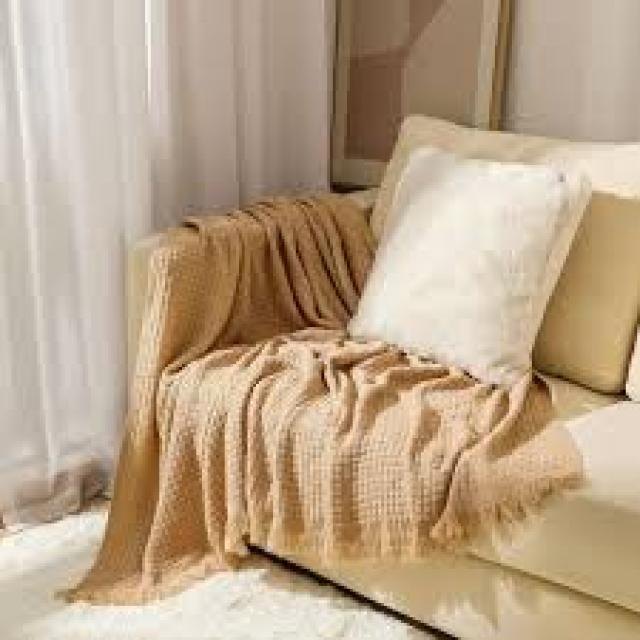blanket: (88, 196, 579, 597)
